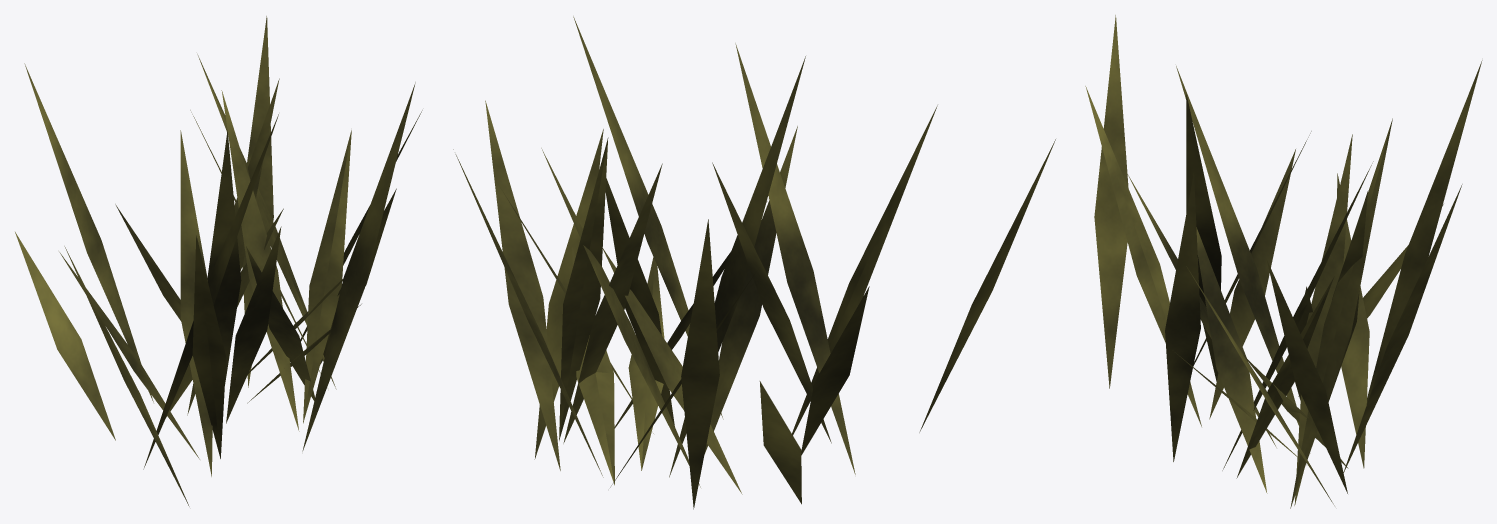
File: sedge.glb
3 renders of one model, left to right at view 1: azimuth 30°, elevation 25°; view 2: azimuth 150°, elevation 25°; view 3: azimuth 270°, elevation 25°, orthographic. The views are drawn at different scales.
Parts seen in each view (by area): view 1: sedgeMesh; view 2: sedgeMesh; view 3: sedgeMesh.
Boxes of the visible parts, x1,y1,x2,y2 form: sedgeMesh: (15,16,422,506); sedgeMesh: (453,16,1055,509); sedgeMesh: (1085,15,1482,508).
Size of the model in its own units: 0.7279 by 0.5505 by 0.5475.
Materials: 1 (1 with a texture image).
